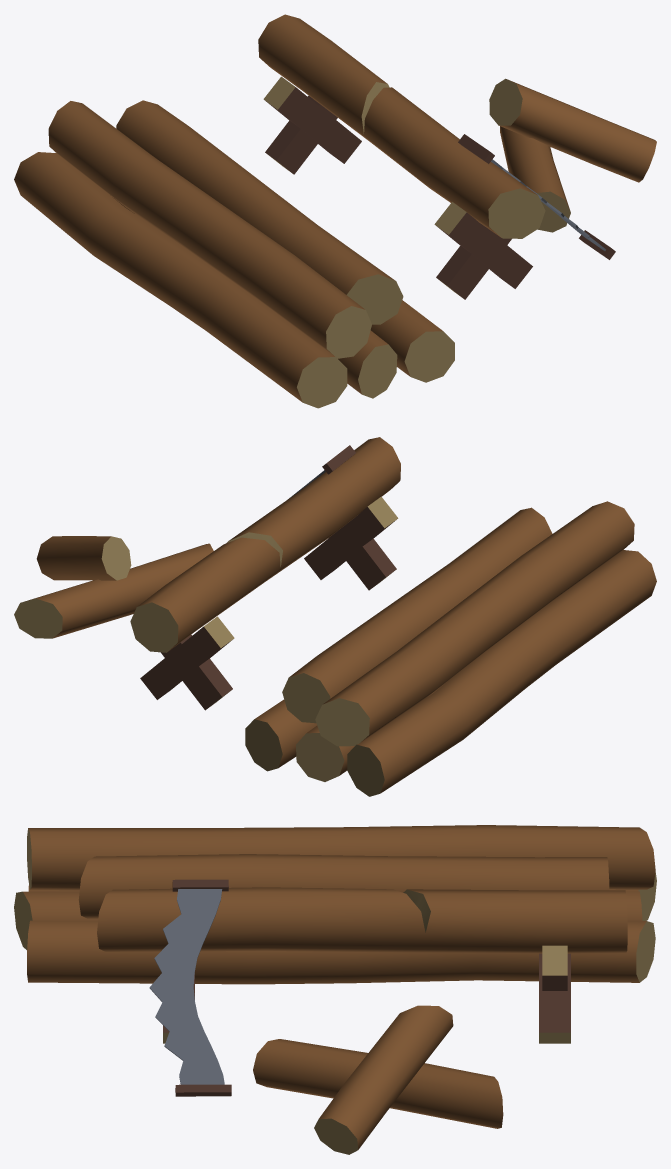
The model's file is sawmill.glb.
The picture shows the model from 3 angles, top to bottom: view 1: azimuth 30°, elevation 25°; view 2: azimuth 150°, elevation 25°; view 3: azimuth 270°, elevation 25°; orthographic projection. The views are drawn at different scales.
Parts seen in each view (by area): view 1: Environment_Sawmill; view 2: Environment_Sawmill; view 3: Environment_Sawmill.
Boxes of the visible parts, <box> form: Environment_Sawmill: <box>14,14,656,408</box>; Environment_Sawmill: <box>14,437,656,796</box>; Environment_Sawmill: <box>14,825,656,1154</box>.
Bounding box in the file's own units: 2.07 × 0.5935 × 2.06.
